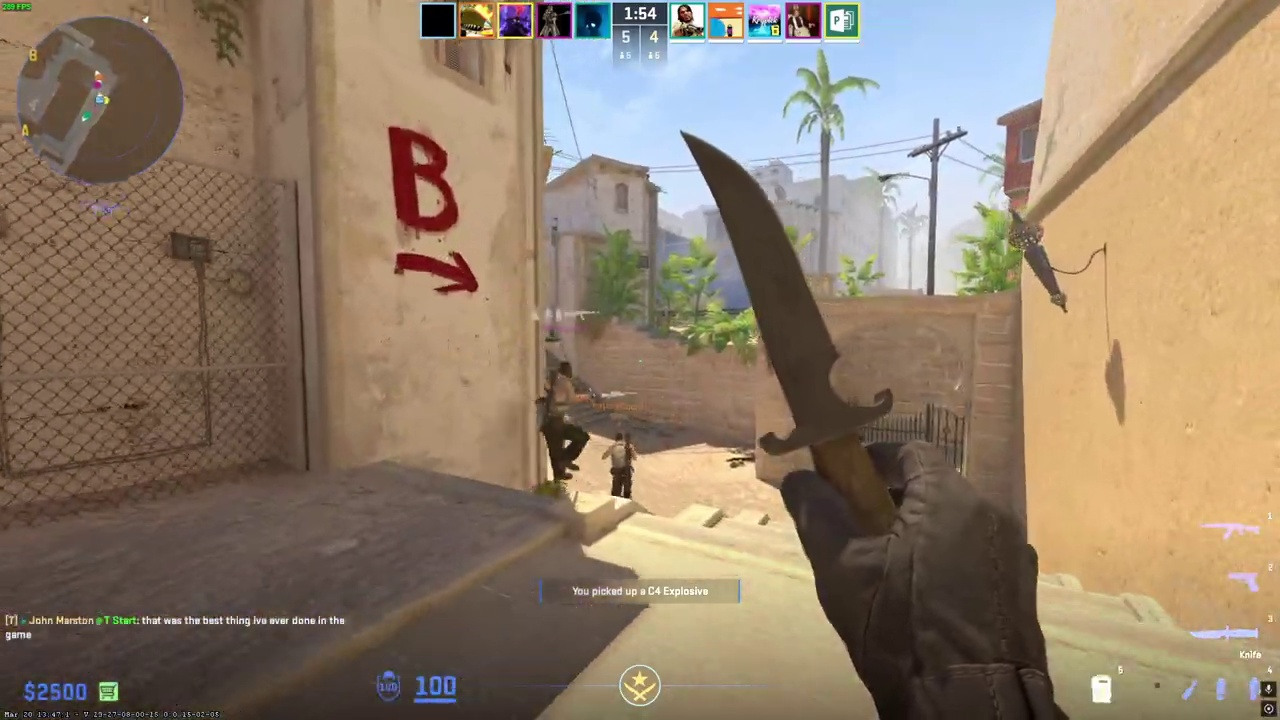Terrorist: (536, 361, 590, 481), (605, 432, 636, 498)
